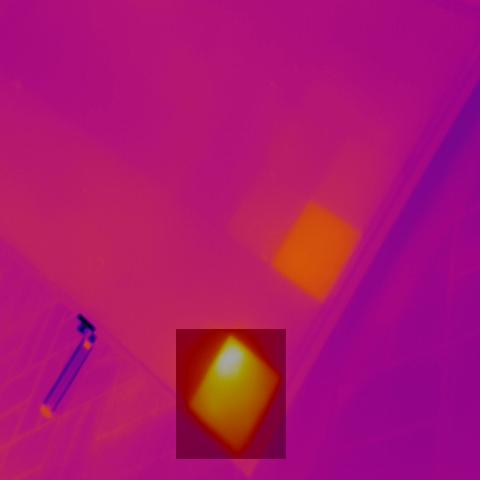fault: (176, 329, 286, 459)
